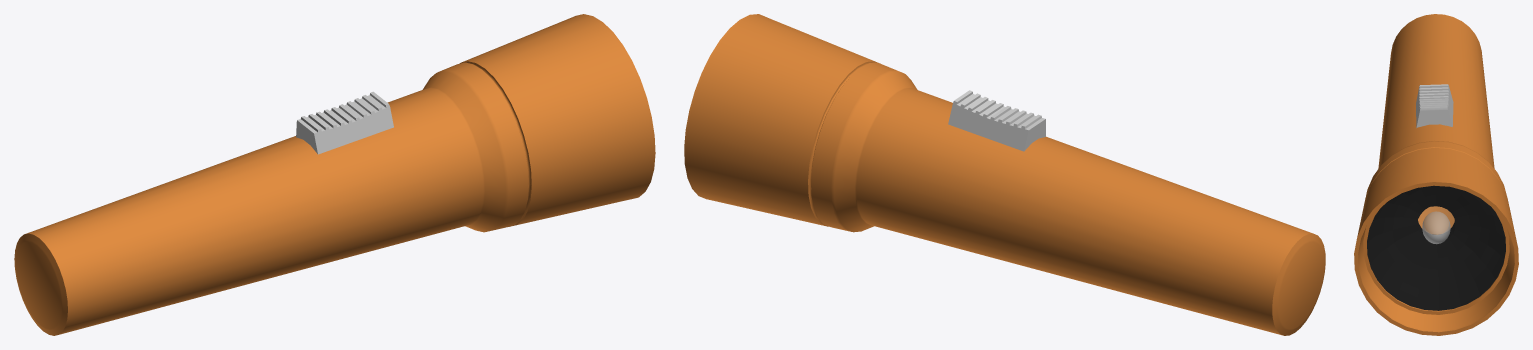
The model's file is flashlight.fbx.
3 renders of one model, left to right at view 1: azimuth 30°, elevation 25°; view 2: azimuth 150°, elevation 25°; view 3: azimuth 270°, elevation 25°, orthographic. The views are drawn at different scales.
Visible parts, largest first — view 1: flashlightBody, switch1; view 2: flashlightBody, switch1; view 3: flashlightBody, lens, bulbHolder, switch1, bulb.
Boxes of the visible parts, box(x1,y1,x2,y2) form: flashlightBody: box(14, 14, 655, 335); switch1: box(296, 91, 393, 154); flashlightBody: box(684, 14, 1325, 335); switch1: box(948, 90, 1045, 151); flashlightBody: box(1354, 14, 1518, 335); lens: box(1367, 186, 1505, 310); bulbHolder: box(1367, 185, 1505, 310); switch1: box(1416, 84, 1453, 127); bulb: box(1422, 211, 1450, 243).
Size of the model in its own units: 21.04 by 6.11 by 6.08.
